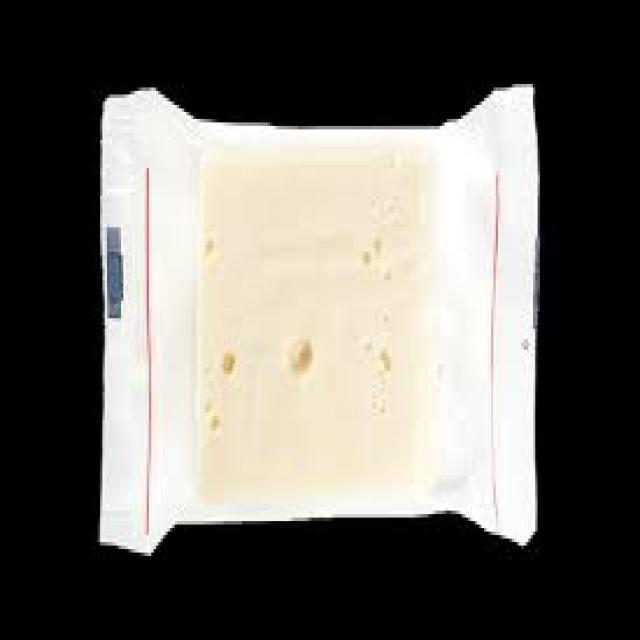slicecheese: (203, 163, 420, 495)
